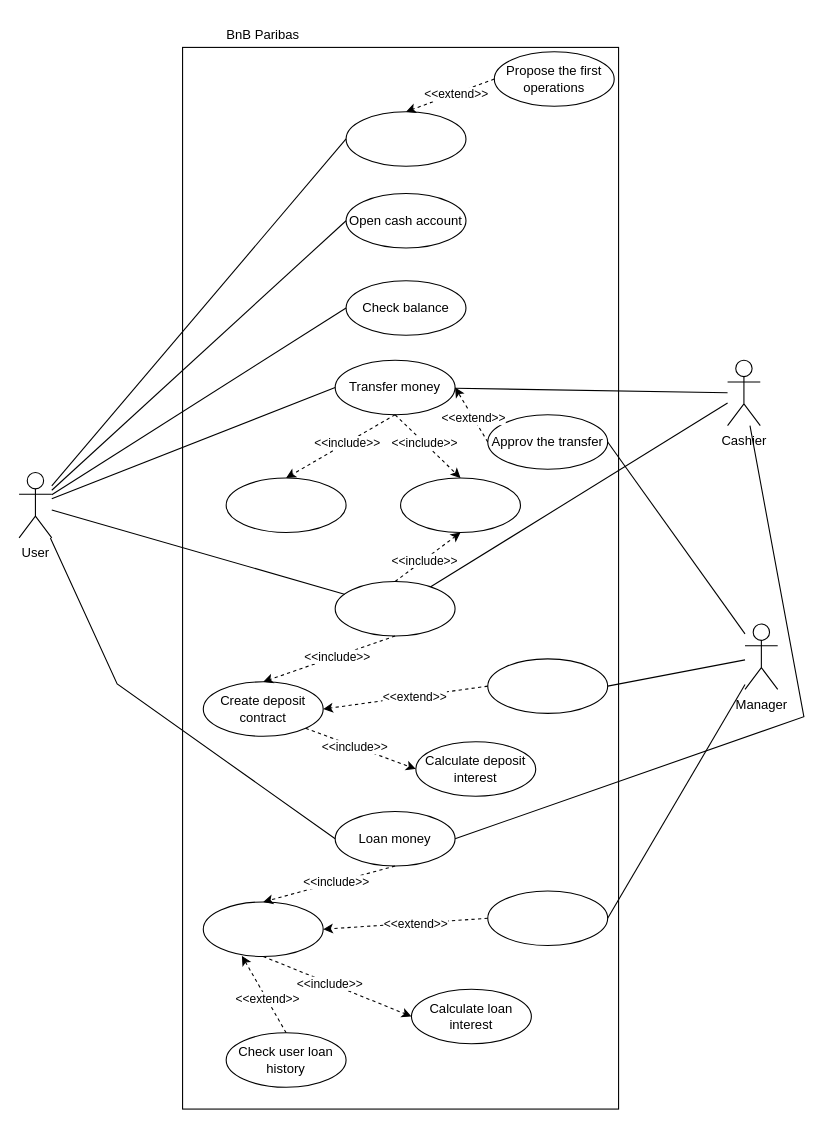
This 824x1128 diagram has some shape labels left out. Each missing label, with the box of its shape:
Approv credit contract: (487, 890, 608, 946)
Approv deposit contract: (487, 658, 608, 713)
Calculate fee: (225, 477, 346, 532)
Check availability money: (399, 477, 520, 532)
Create loan contract: (202, 901, 323, 956)
Deposit money: (334, 580, 455, 636)
Open account: (345, 111, 466, 166)
